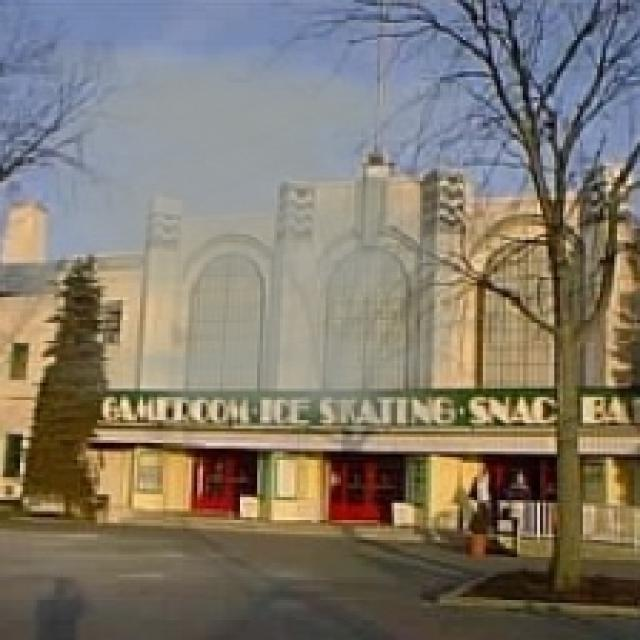smoke: (48, 46, 466, 431)
